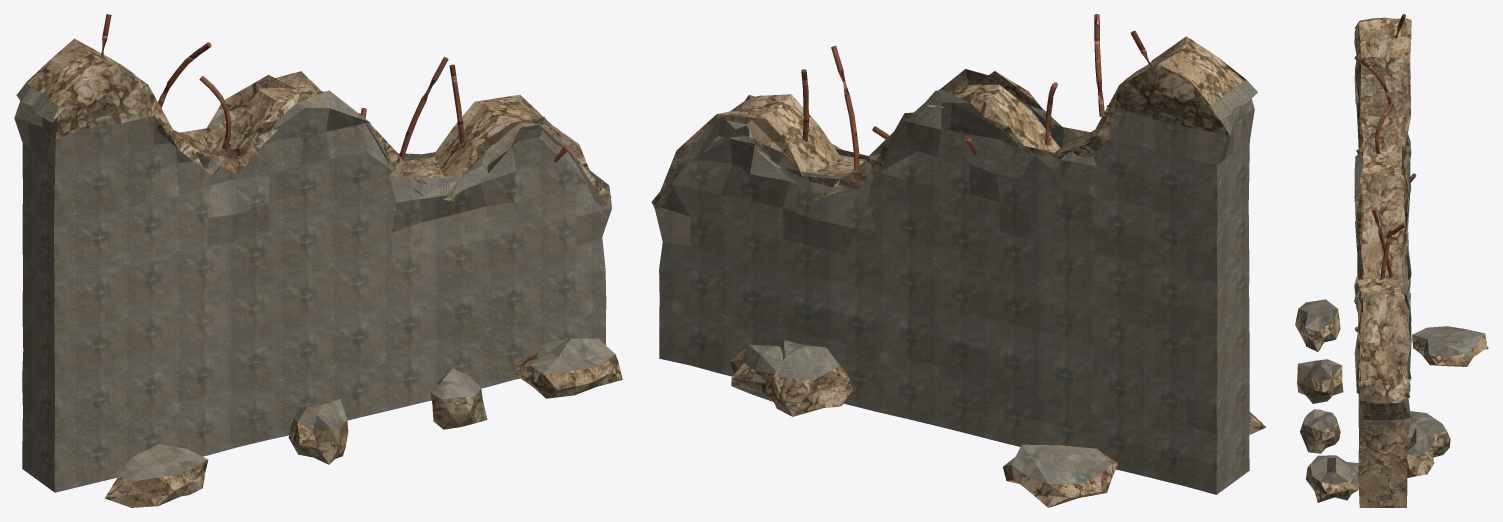
File: Wreckage_ConcreteWall_Broken.fbx
3 views of the same model, side by side, from view 1: azimuth 30°, elevation 25°; view 2: azimuth 150°, elevation 25°; view 3: azimuth 270°, elevation 25° (orthographic). The views are drawn at different scales.
Visible parts, largest first — view 1: Wreckage_ConcreteWall_Broken; view 2: Wreckage_ConcreteWall_Broken; view 3: Wreckage_ConcreteWall_Broken.
Part boxes in pixels (left/top/right/bottom): Wreckage_ConcreteWall_Broken: left=14, top=14, right=622, bottom=507; Wreckage_ConcreteWall_Broken: left=651, top=14, right=1265, bottom=507; Wreckage_ConcreteWall_Broken: left=1295, top=14, right=1488, bottom=507.
Size of the model in its own units: 3.36 by 2.44 by 1.31.
3 materials, 3 textured.
